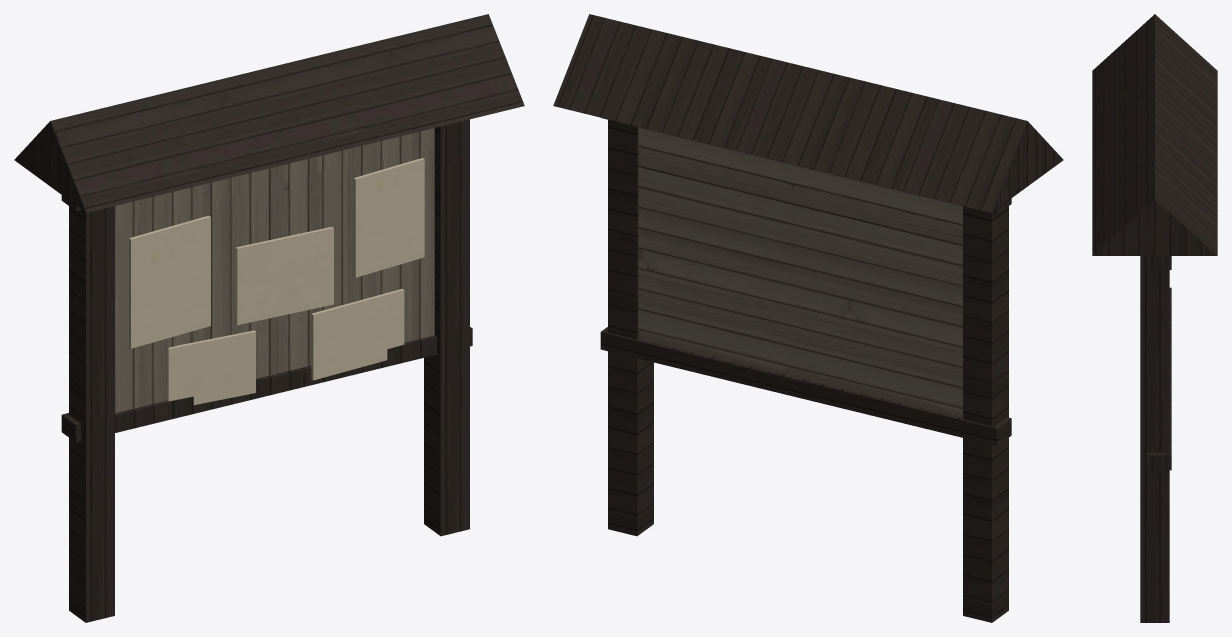
Rendered from notice_board_01.glb.
3 views of the same model, side by side, from view 1: azimuth 30°, elevation 25°; view 2: azimuth 150°, elevation 25°; view 3: azimuth 270°, elevation 25° (orthographic). The views are drawn at different scales.
Visible parts, largest first — view 1: notice_board_01; view 2: notice_board_01; view 3: notice_board_01.
Part boxes in pixels (x1=…): notice_board_01: x1=14, y1=14, x2=524, y2=622; notice_board_01: x1=553, y1=14, x2=1063, y2=622; notice_board_01: x1=1092, y1=14, x2=1217, y2=622.
Size of the model in its own units: 2.1 by 2.3 by 0.6001.
3 materials, 3 textured.
